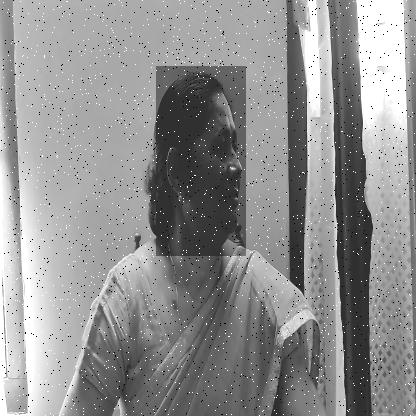Distracted: (156, 66, 246, 256)
